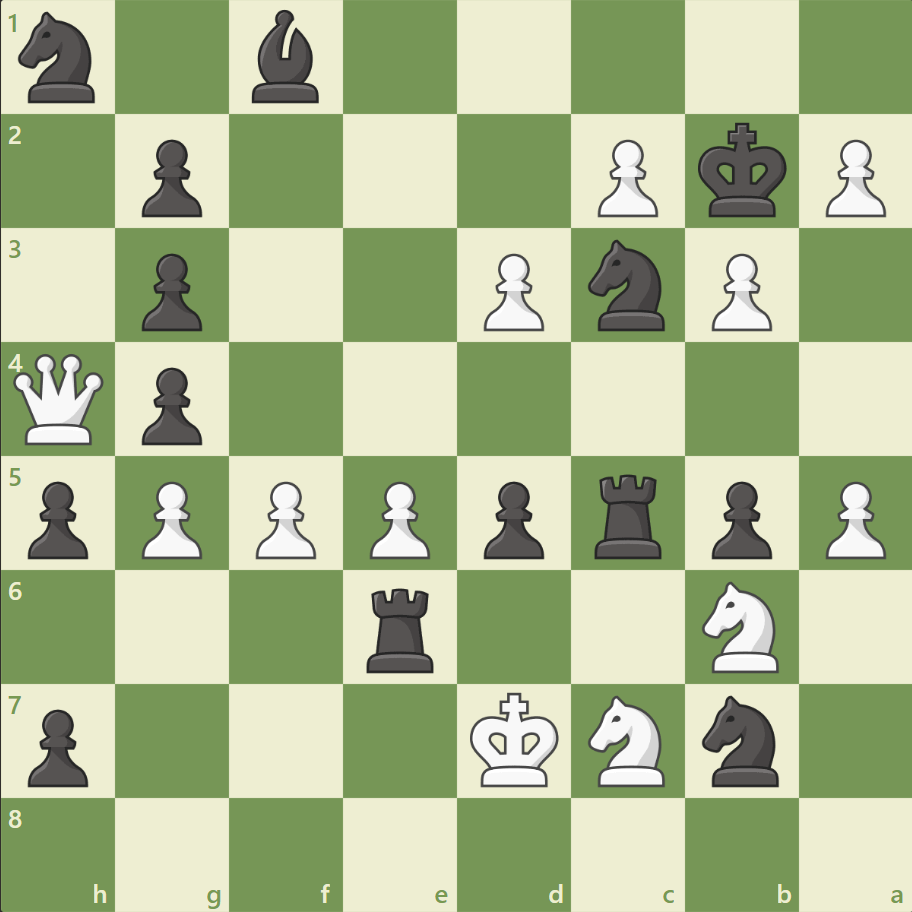K: (465, 685, 565, 793)
N: (579, 688, 676, 791), (692, 575, 789, 677)
P: (247, 473, 322, 564), (133, 473, 208, 564), (701, 246, 776, 337), (474, 246, 549, 337), (815, 473, 889, 564), (361, 473, 435, 564), (815, 132, 889, 223), (588, 132, 662, 223)
Q: (10, 349, 109, 449)
b: (244, 6, 328, 109)
k: (692, 117, 792, 225)
n: (692, 688, 789, 791), (579, 234, 676, 337), (11, 7, 108, 110)
p: (20, 700, 95, 791), (701, 473, 776, 564), (474, 473, 549, 564), (20, 473, 95, 564), (133, 359, 208, 450), (133, 246, 208, 337), (133, 132, 208, 223)
r: (587, 466, 670, 563), (360, 579, 442, 676)
